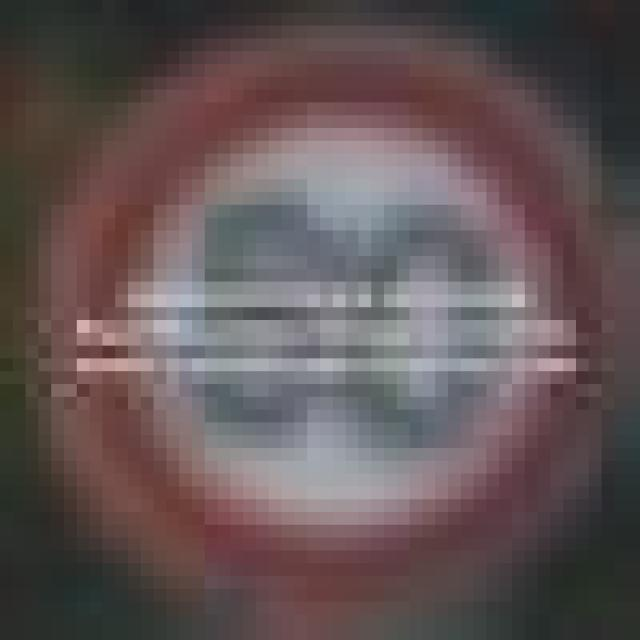speed_limit_50: (39, 51, 602, 589)
